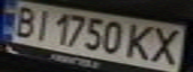0: (100, 19, 127, 56)
1: (48, 10, 72, 45)
5: (81, 16, 106, 53)
7: (63, 12, 87, 48)
B: (6, 3, 42, 38)
I: (27, 7, 54, 40)
K: (124, 21, 160, 62)
X: (145, 25, 190, 66)
